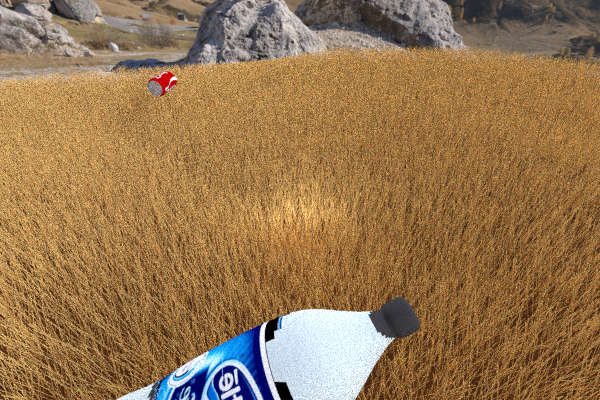Plastic Bottle: (8, 296, 420, 400), (122, 139, 205, 196), (147, 71, 177, 96)
